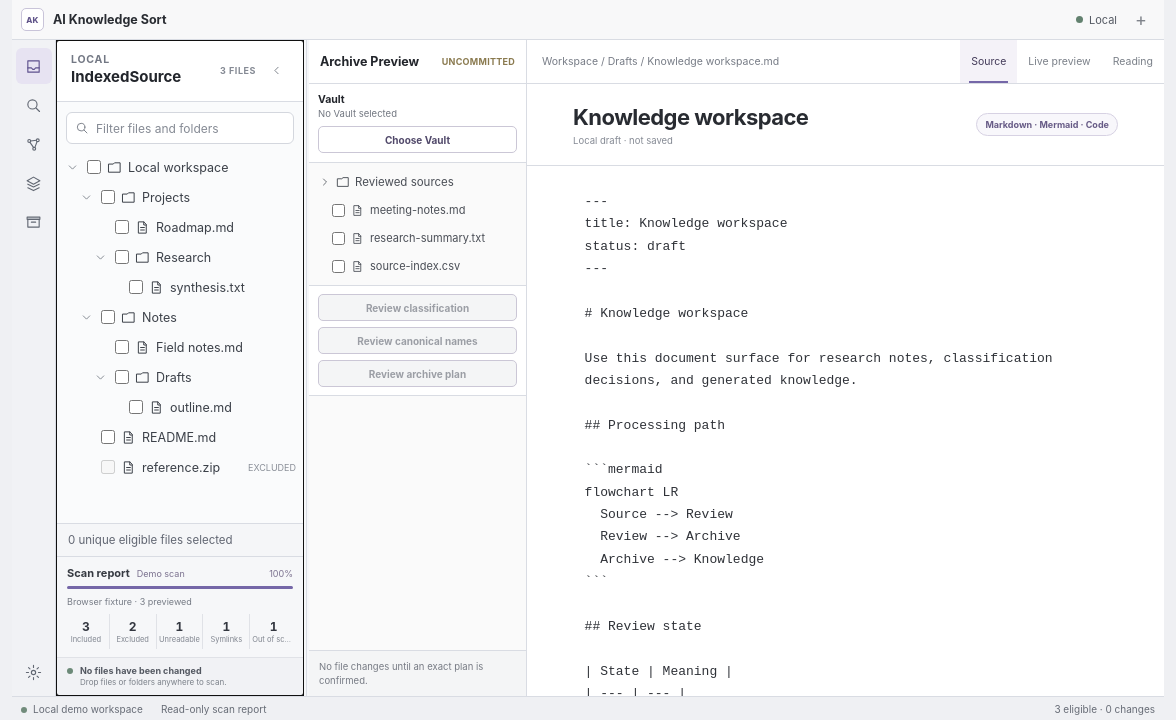
Scenario: source workbench shell › loads a trusted proposal from the native add-files picker
Click the button named "Add source" at (1141, 20), box [1127,6,1155,34]
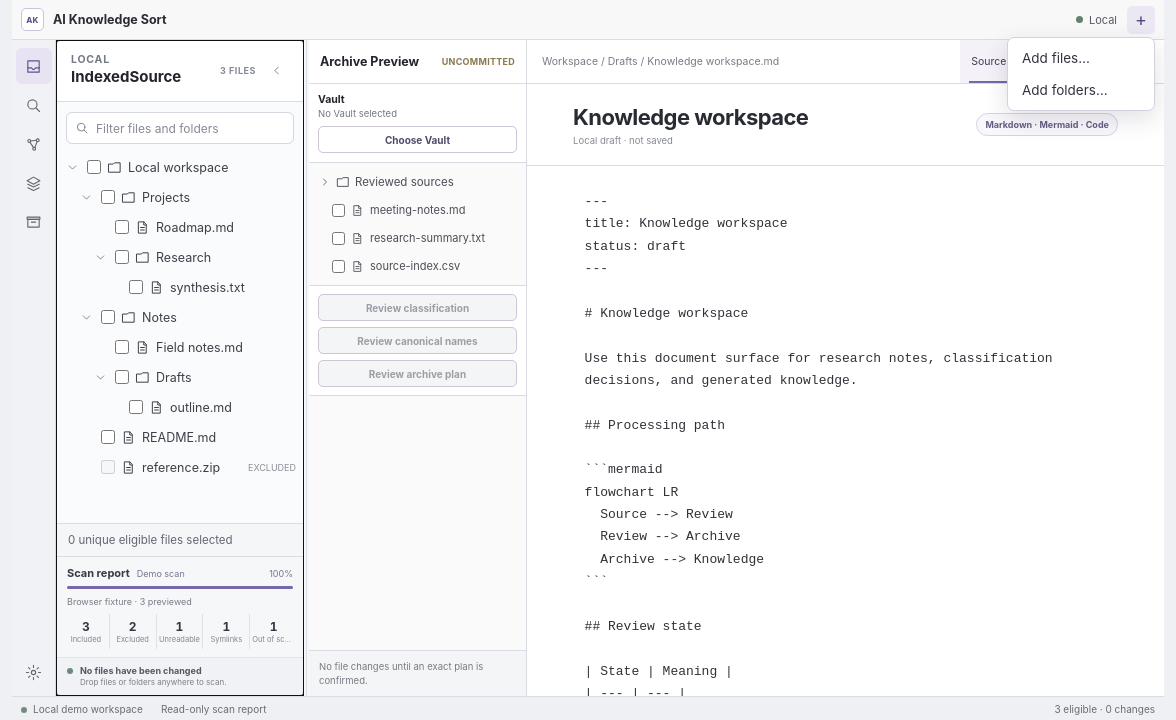
Click the menu item "Add files…" at (1081, 58), box [1013,42,1149,72]
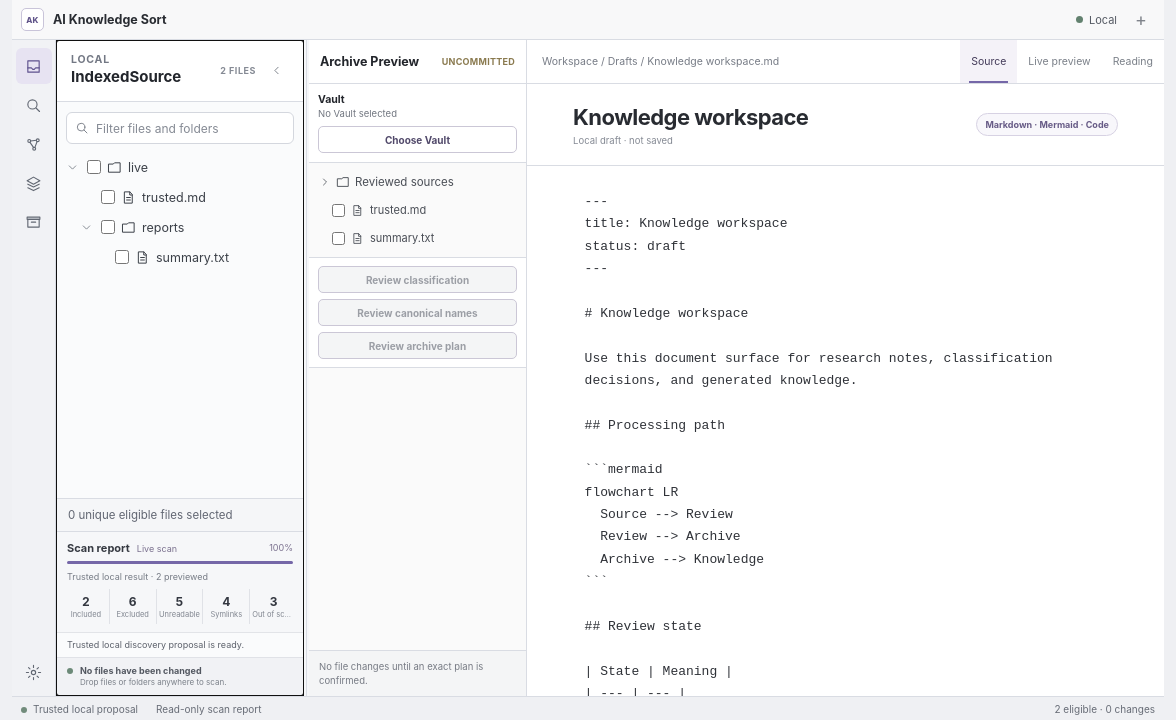
Result: the text "Demo scan" is gone
